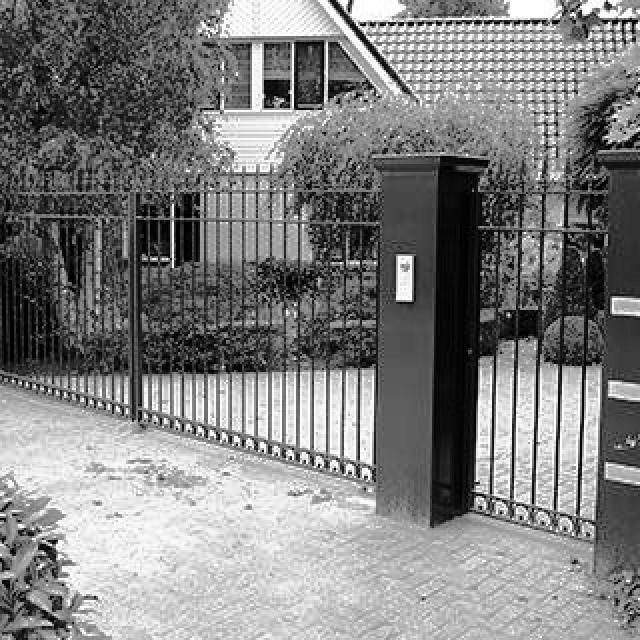fences: (9, 164, 373, 463), (471, 187, 607, 533)
